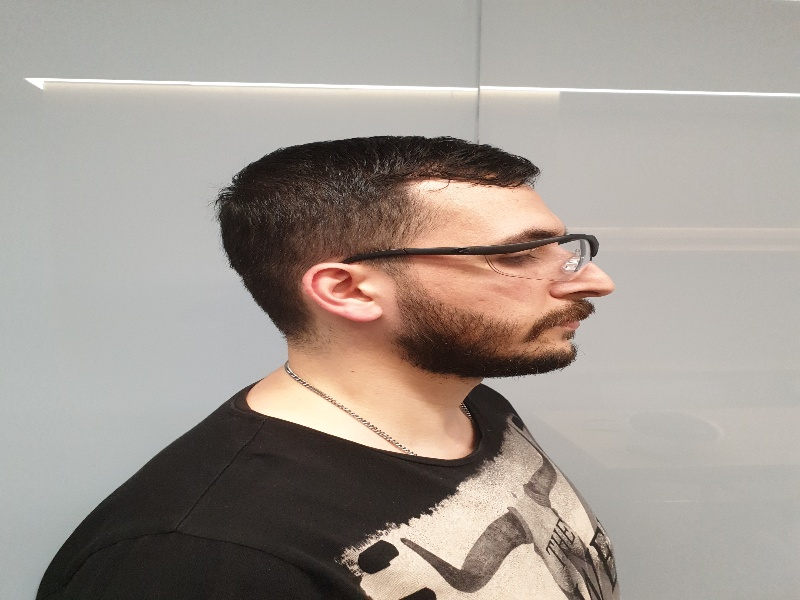Gozluk: (334, 233, 602, 278)
